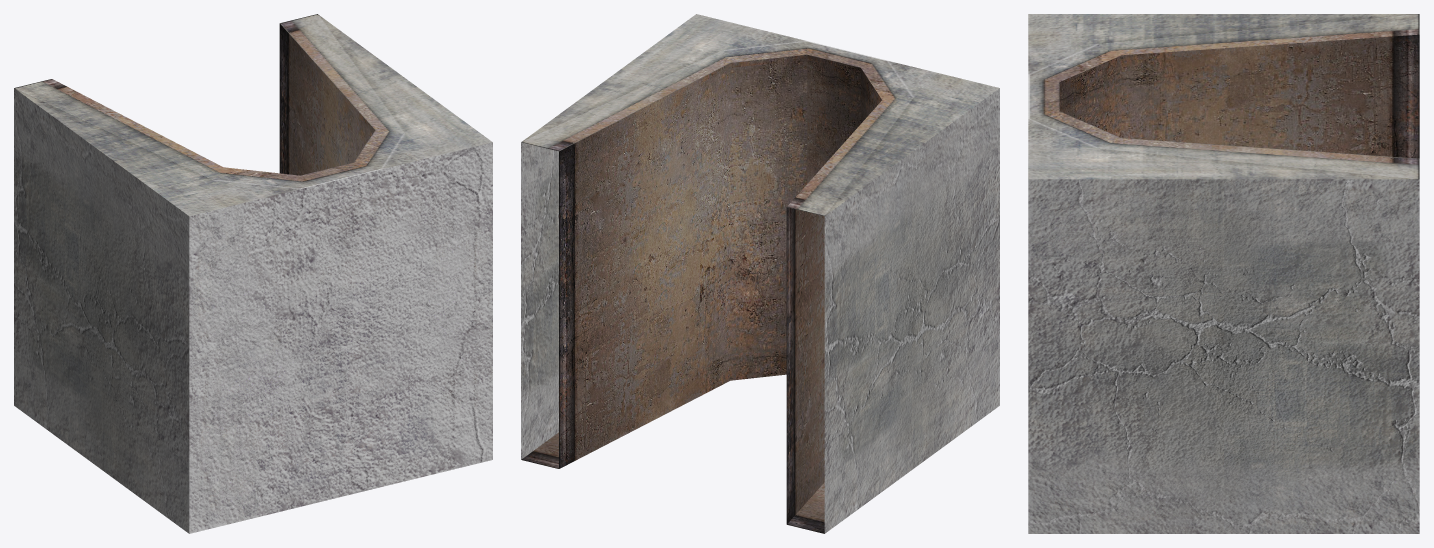
File: rv_mod_cit_lego_tunnel.obj
3 renders of one model, left to right at view 1: azimuth 30°, elevation 25°; view 2: azimuth 150°, elevation 25°; view 3: azimuth 270°, elevation 25°, orthographic. The views are drawn at different scales.
Visible parts, largest first — view 1: rv_mod_cit_lego_tunnel; view 2: rv_mod_cit_lego_tunnel; view 3: rv_mod_cit_lego_tunnel.
Part boxes in pixels (box(x1,y1,x2,y2)): rv_mod_cit_lego_tunnel: box(14, 14, 492, 533); rv_mod_cit_lego_tunnel: box(521, 14, 999, 533); rv_mod_cit_lego_tunnel: box(1028, 14, 1419, 533).
Bounding box in the file's own units: 8 × 8 × 8.
Materials: 4 (4 with a texture image).
